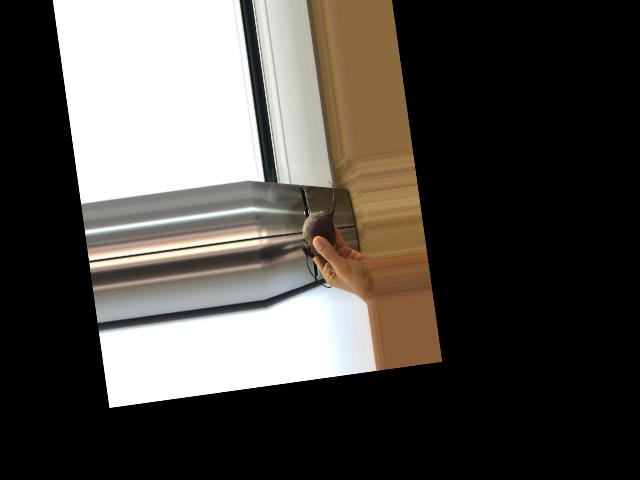beet: (293, 178, 348, 290)
